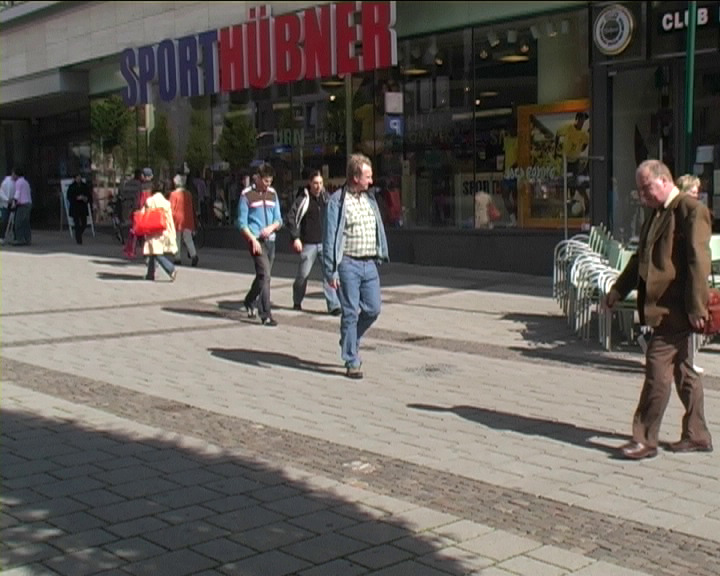deflection: (330, 155, 387, 243)
